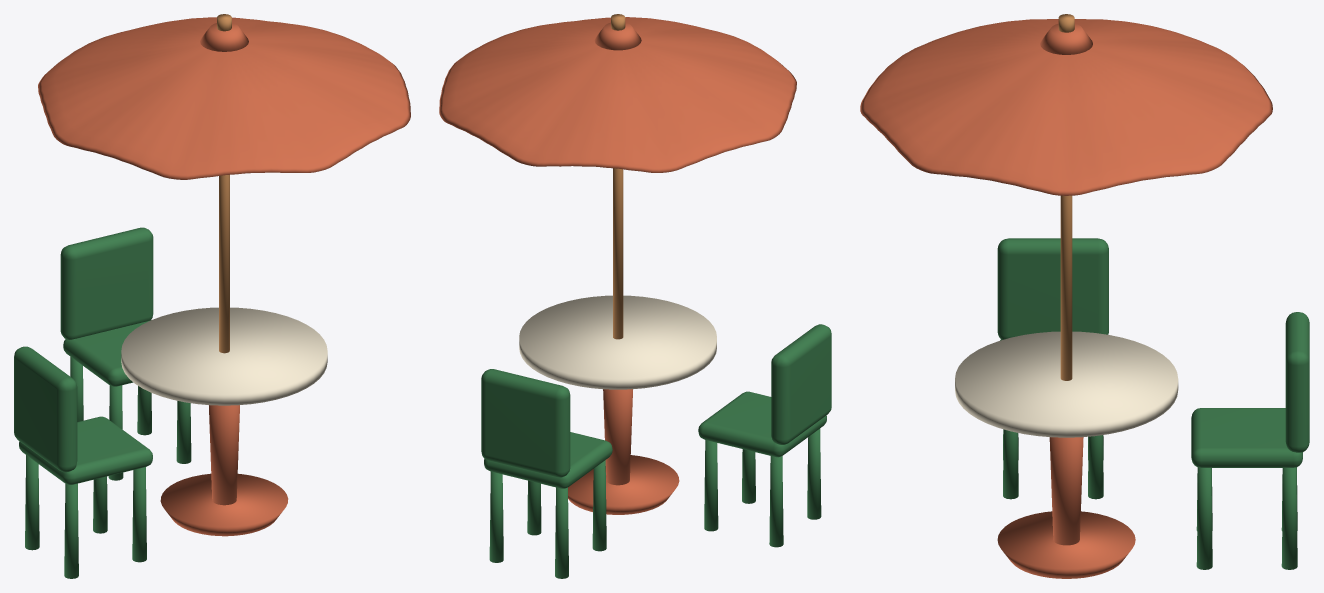
The model's file is street_cafe_table.glb.
The picture shows the model from 3 angles, left to right: view 1: azimuth 30°, elevation 25°; view 2: azimuth 150°, elevation 25°; view 3: azimuth 270°, elevation 25°; orthographic projection. The views are drawn at different scales.
Parts seen in each view (by area): view 1: Parasol, Top, ChairBBack, ChairABack, Foot, ChairASeat, Pedestal, ChairBSeat, Pole, ChairALeg-0.16-0.16, ChairALeg0.16-0.16, ChairALeg-0.160.16 (+6 smaller); view 2: Parasol, Top, ChairBBack, ChairABack, ChairASeat, Foot, Pedestal, ChairBSeat, Pole, ChairALeg-0.160.16, ChairALeg0.160.16, ChairBLeg-0.16-0.16 (+6 smaller); view 3: Parasol, Top, ChairABack, Foot, ChairBSeat, ChairBBack, Pedestal, Pole, ChairBLeg0.160.16, ChairBLeg-0.160.16, ParasolCap, ChairALeg0.16-0.16 (+1 smaller).
Boxes of the visible parts, x1=… form: Parasol: x1=38, y1=17, x2=410, y2=179; Top: x1=121, y1=307, x2=327, y2=405; ChairBBack: x1=60, y1=227, x2=153, y2=339; ChairABack: x1=14, y1=346, x2=77, y2=472; Foot: x1=160, y1=473, x2=288, y2=536; ChairASeat: x1=19, y1=416, x2=152, y2=484; Pedestal: x1=209, y1=405, x2=239, y2=505; ChairBSeat: x1=63, y1=320, x2=149, y2=386; Pole: x1=219, y1=175, x2=229, y2=353; ChairALeg-0.16-0.16: x1=64, y1=483, x2=78, y2=578; ChairALeg0.16-0.16: x1=132, y1=467, x2=146, y2=562; ChairALeg-0.160.16: x1=25, y1=455, x2=39, y2=550; Parasol: x1=439, y1=17, x2=796, y2=172; Top: x1=519, y1=295, x2=716, y2=389; ChairBBack: x1=481, y1=369, x2=570, y2=477; ChairABack: x1=771, y1=324, x2=831, y2=444; ChairASeat: x1=698, y1=391, x2=826, y2=457; Foot: x1=568, y1=455, x2=679, y2=514; Pedestal: x1=603, y1=389, x2=632, y2=485; ChairBSeat: x1=484, y1=432, x2=612, y2=488; Pole: x1=613, y1=168, x2=623, y2=339; ChairALeg-0.160.16: x1=769, y1=456, x2=783, y2=547; ChairALeg0.160.16: x1=704, y1=440, x2=718, y2=531; ChairBLeg-0.16-0.16: x1=555, y1=487, x2=568, y2=578; Parasol: x1=860, y1=19, x2=1272, y2=195; Top: x1=955, y1=331, x2=1178, y2=437; ChairABack: x1=997, y1=238, x2=1108, y2=339; Foot: x1=997, y1=511, x2=1135, y2=578; ChairBSeat: x1=1191, y1=408, x2=1302, y2=467; ChairBBack: x1=1285, y1=312, x2=1309, y2=452; Pedestal: x1=1049, y1=437, x2=1083, y2=545; Pole: x1=1060, y1=195, x2=1072, y2=380; ChairBLeg0.160.16: x1=1196, y1=467, x2=1212, y2=569; ChairBLeg-0.160.16: x1=1281, y1=467, x2=1297, y2=569; ParasolCap: x1=1040, y1=23, x2=1092, y2=54; ChairALeg0.16-0.16: x1=1003, y1=429, x2=1018, y2=499.
Size of the model in its own units: 1.69 by 2.23 by 1.69.
